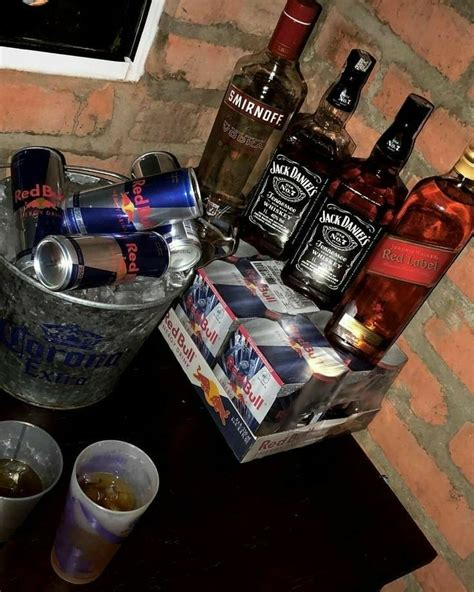alcohol: (325, 143, 474, 368), (284, 96, 434, 307), (184, 3, 319, 231), (237, 40, 374, 259), (47, 433, 161, 592), (3, 416, 66, 545)
